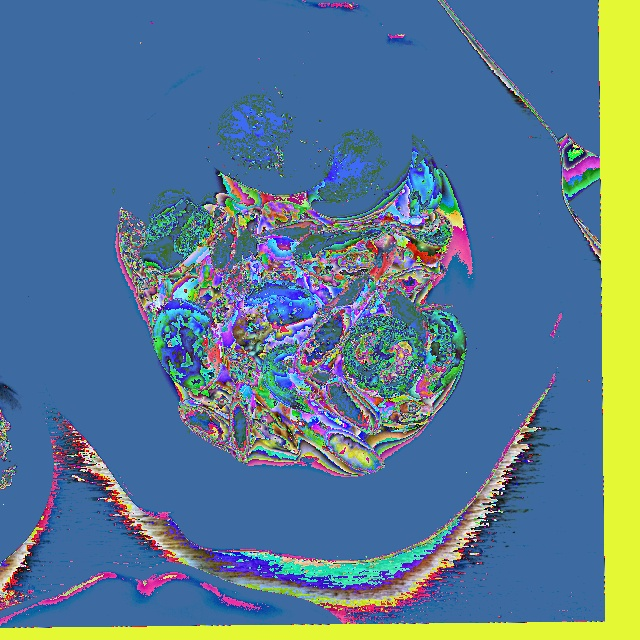background: (119, 79, 467, 473)
